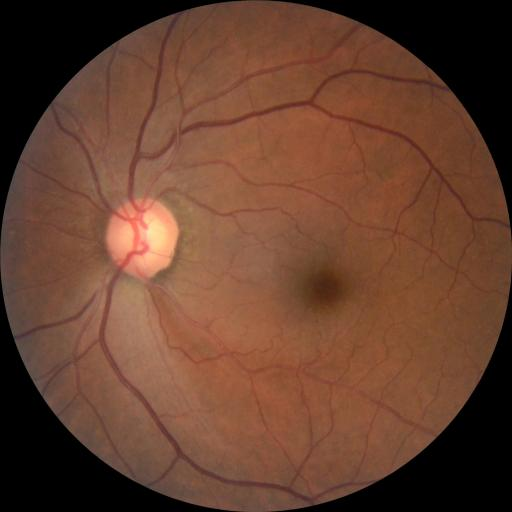Optic Cup: (122, 211, 165, 258)
Optic Disc: (105, 198, 179, 281)
